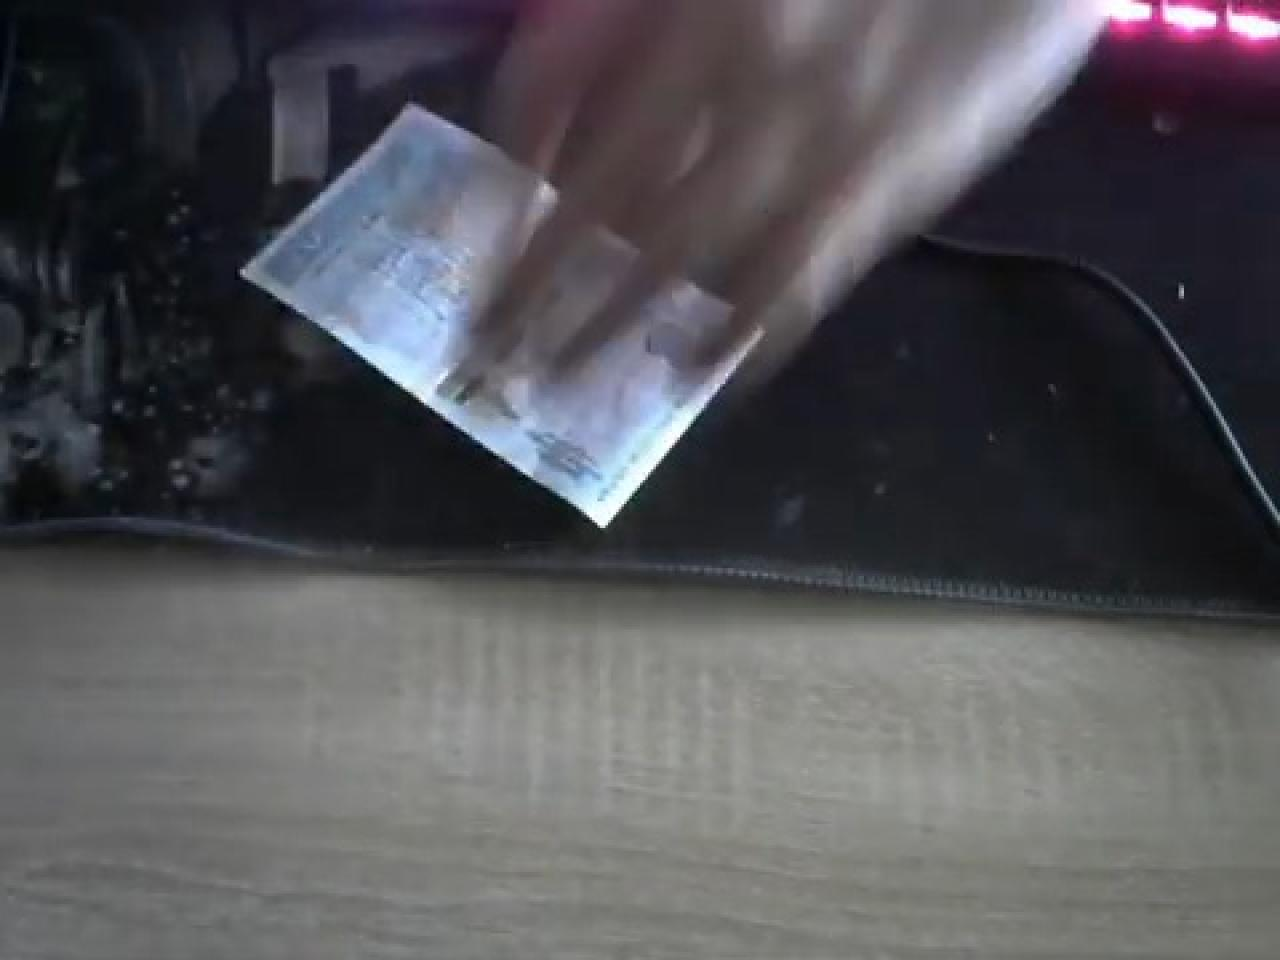20leva: (237, 0, 1107, 530)
